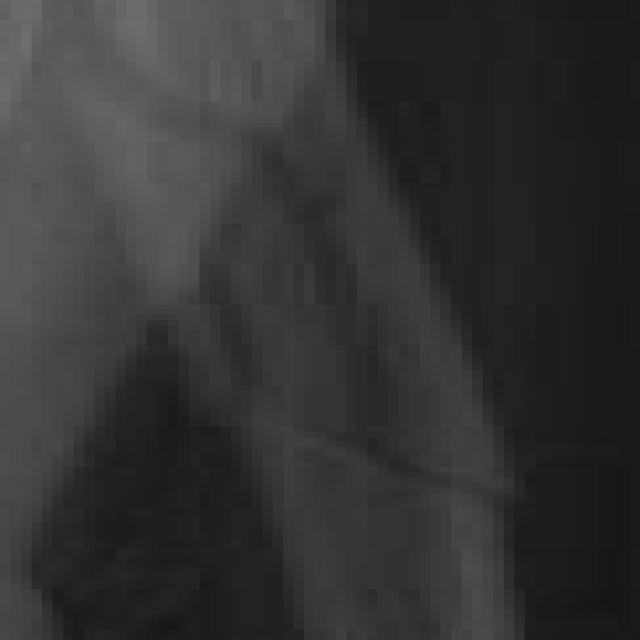fracture: (2, 5, 640, 640)
